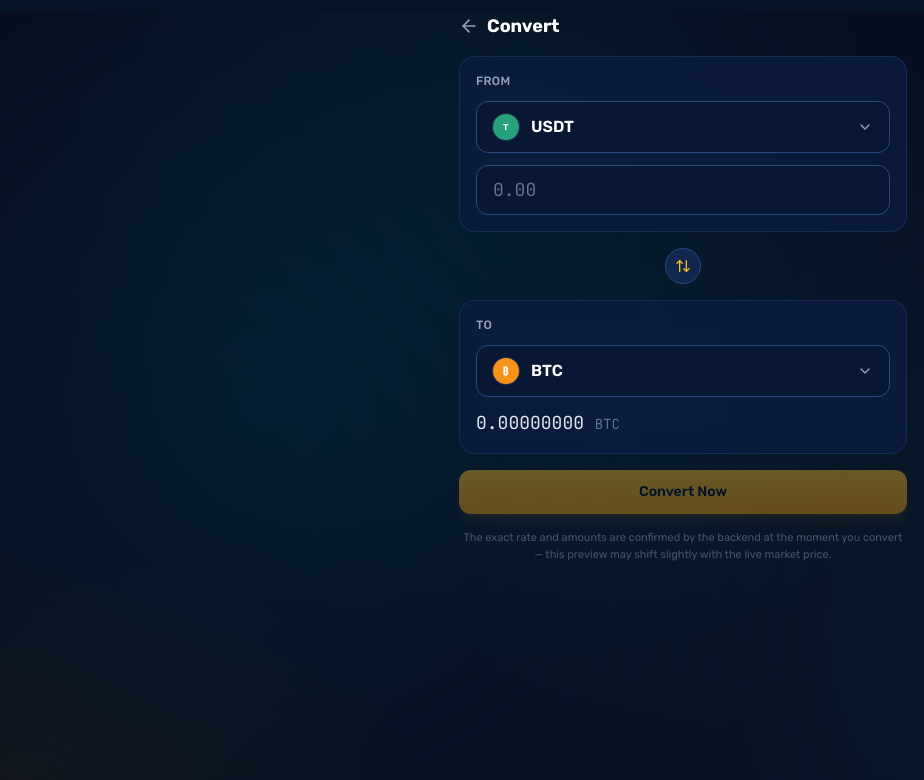
Scenario: ConvertPage › swaps From and To when the swap button is clicked
Click the button named "Swap From and To": [683, 266] box [665,248,701,284]
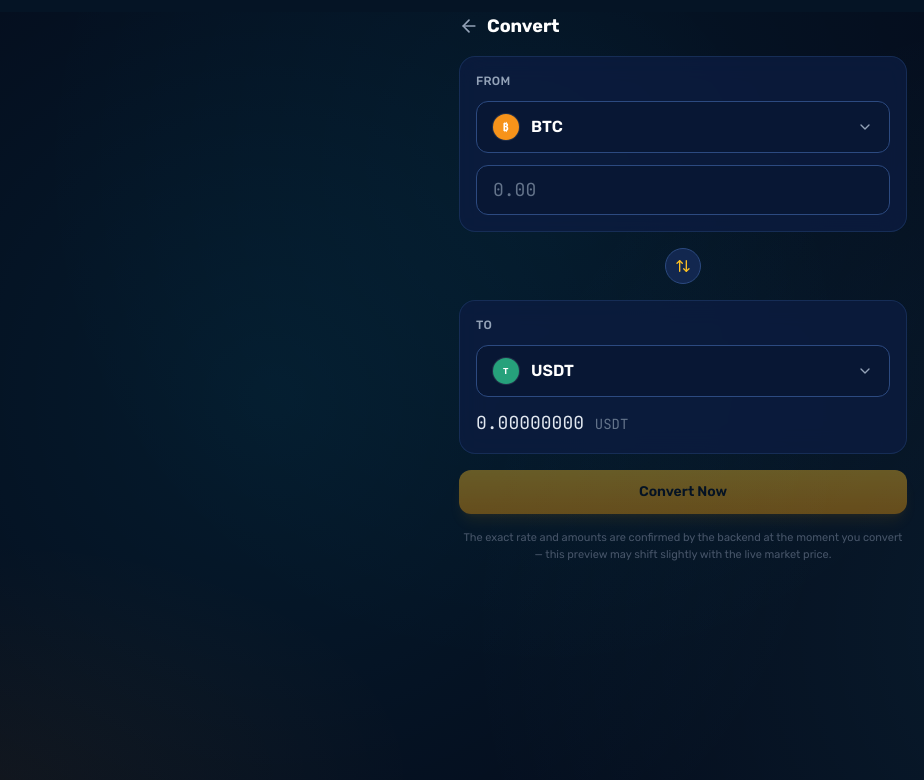
Expected: the text "BTC" is shown, [531,117,563,136]
